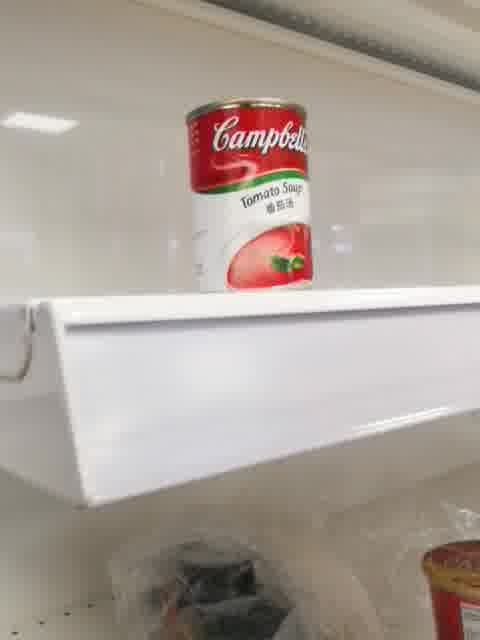tomatosoup: (181, 95, 315, 293)
